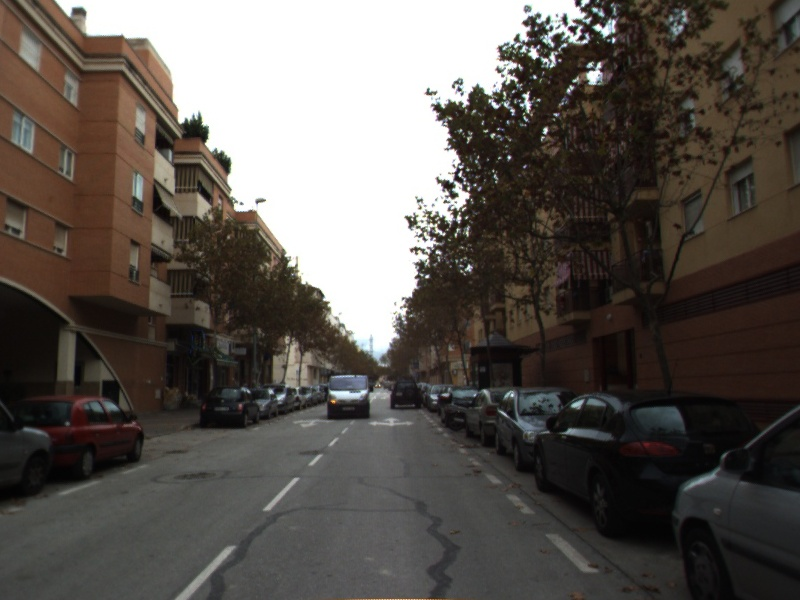STRAIGHT_LEFT_RIGHT: (367, 415, 417, 429)
